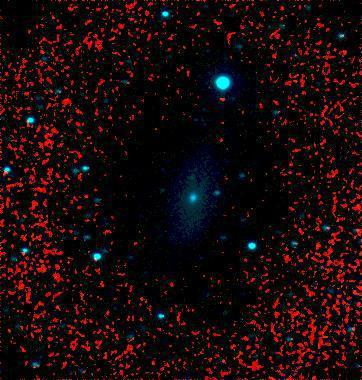star: (206, 84, 236, 114)
